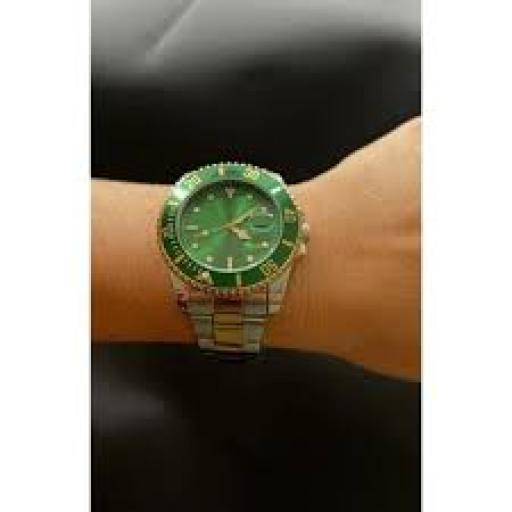KolSaati: (148, 130, 320, 358)
